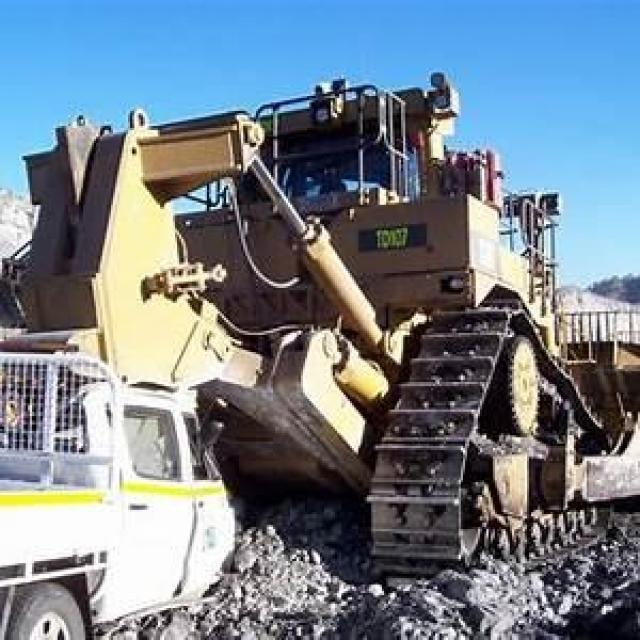Bulldozer: (17, 64, 638, 599)
